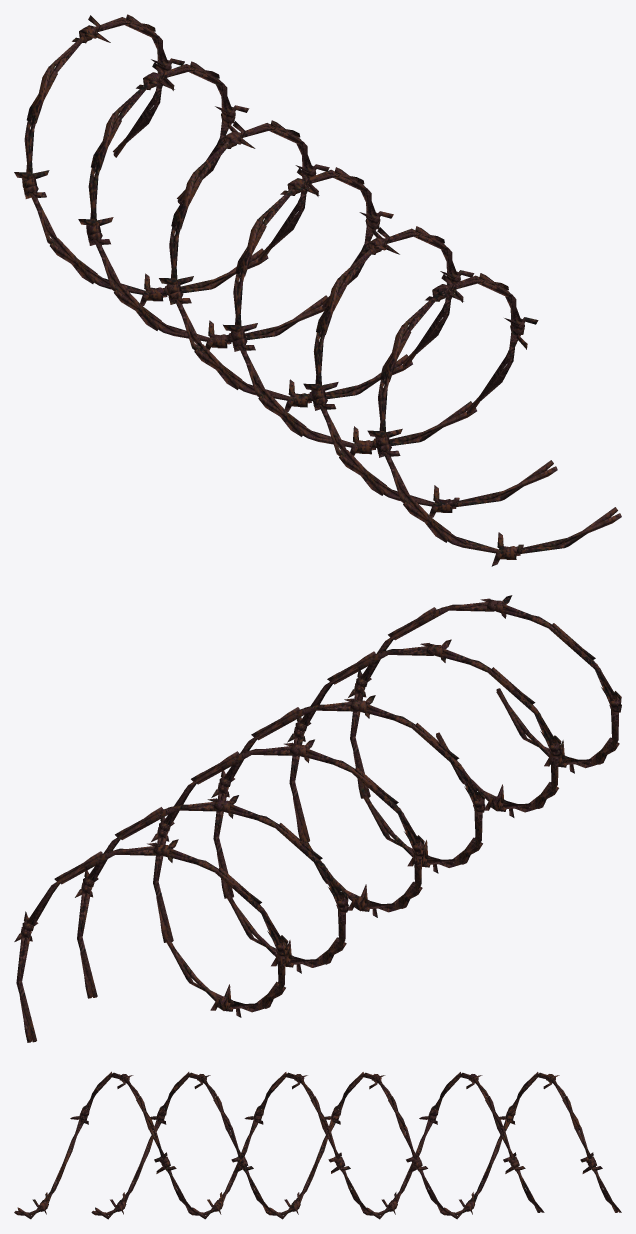
The model's file is circular_barbed_wire.glb.
3 renders of one model, top to bottom at view 1: azimuth 30°, elevation 25°; view 2: azimuth 150°, elevation 25°; view 3: azimuth 270°, elevation 25°, orthographic. The views are drawn at different scales.
Parts seen in each view (by area): view 1: Barb_Wire_Circular; view 2: Barb_Wire_Circular; view 3: Barb_Wire_Circular.
Part boxes in pixels (x1,y1,x2,y2): Barb_Wire_Circular: [14, 14, 621, 566]; Barb_Wire_Circular: [14, 595, 621, 1042]; Barb_Wire_Circular: [14, 1071, 621, 1219].
Size of the model in its own units: 0.3428 by 0.3387 by 1.33.
Materials: 1 (1 with a texture image).
